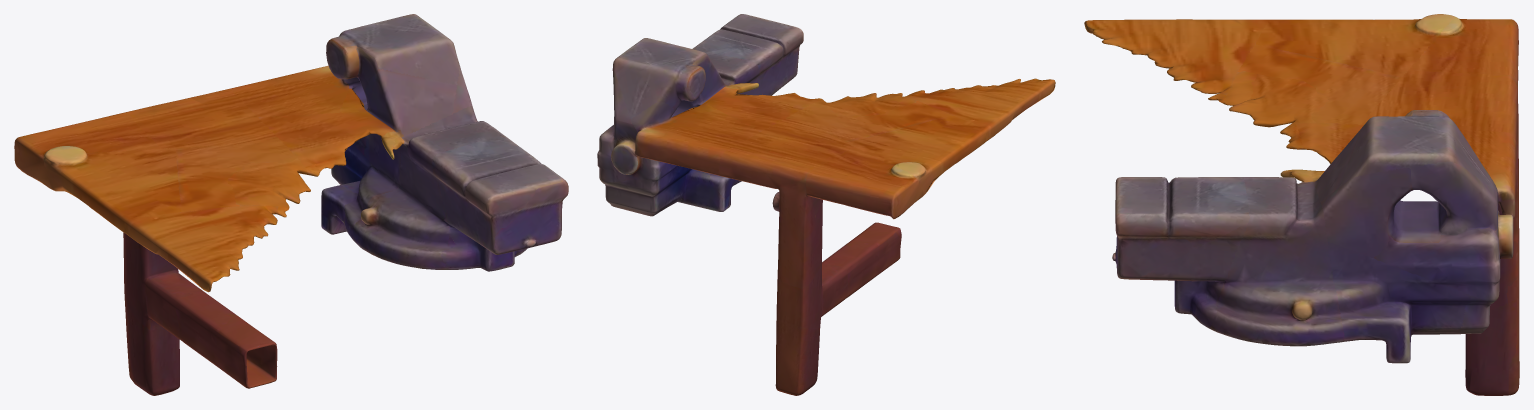
Rendered from workbench_vice.glb.
3 renders of one model, left to right at view 1: azimuth 30°, elevation 25°; view 2: azimuth 150°, elevation 25°; view 3: azimuth 270°, elevation 25°, orthographic. The views are drawn at different scales.
Visible parts, largest first — view 1: tripo_node_b2432a8d-3ae7-4ca2-9c46-477090c8b383; view 2: tripo_node_b2432a8d-3ae7-4ca2-9c46-477090c8b383; view 3: tripo_node_b2432a8d-3ae7-4ca2-9c46-477090c8b383.
Part boxes in pixels (<box>): tripo_node_b2432a8d-3ae7-4ca2-9c46-477090c8b383: <box>14,14,568,395</box>; tripo_node_b2432a8d-3ae7-4ca2-9c46-477090c8b383: <box>597,14,1055,395</box>; tripo_node_b2432a8d-3ae7-4ca2-9c46-477090c8b383: <box>1084,14,1519,395</box>.
Bounding box in the file's own units: 0.949 × 0.7334 × 0.7972.
Materials: 1 (1 with a texture image).
